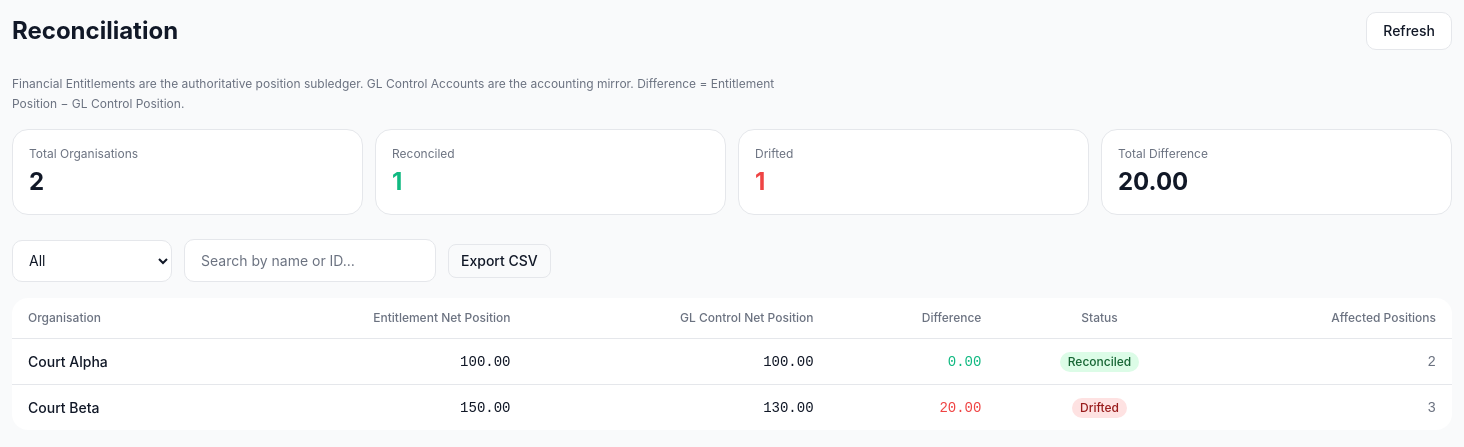
ReconciliationPage › supports search filtering
Check: the text "Court Alpha" is shown, box [12, 338, 217, 384]
Check: the text "Court Beta" is shown, box [12, 384, 217, 430]
Type "Beta" into the field with placeholder "Search by name or ID…" at x=310, y=260, box [184, 239, 436, 282]
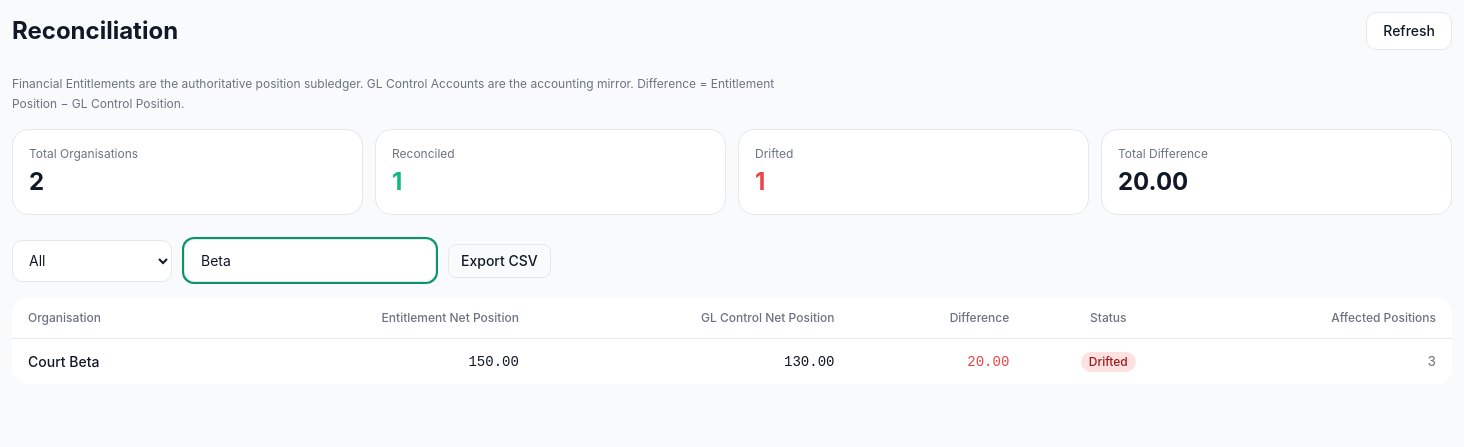
Check: the text "Court Beta" is shown, box [12, 338, 212, 384]
Check: the text "Court Alpha" is gone
